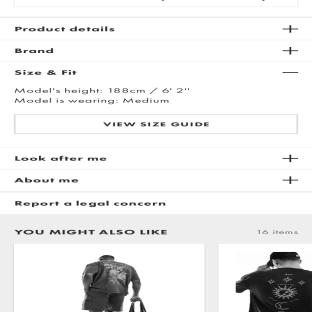button: (10, 111, 306, 138), (275, 153, 302, 164), (277, 25, 302, 34), (277, 67, 302, 75), (282, 46, 301, 55), (282, 176, 301, 185)
